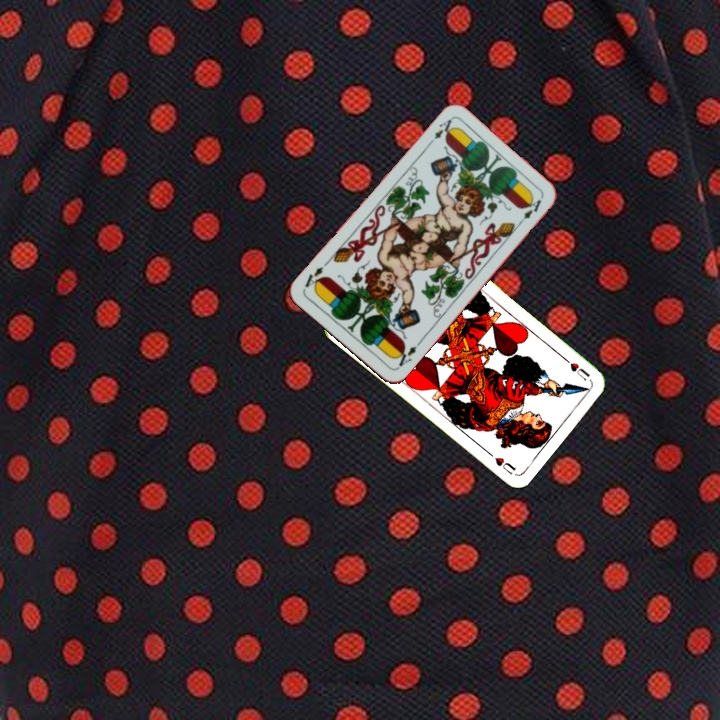EA: (390, 337, 424, 369), (424, 115, 456, 148)
HU: (558, 353, 592, 383)
